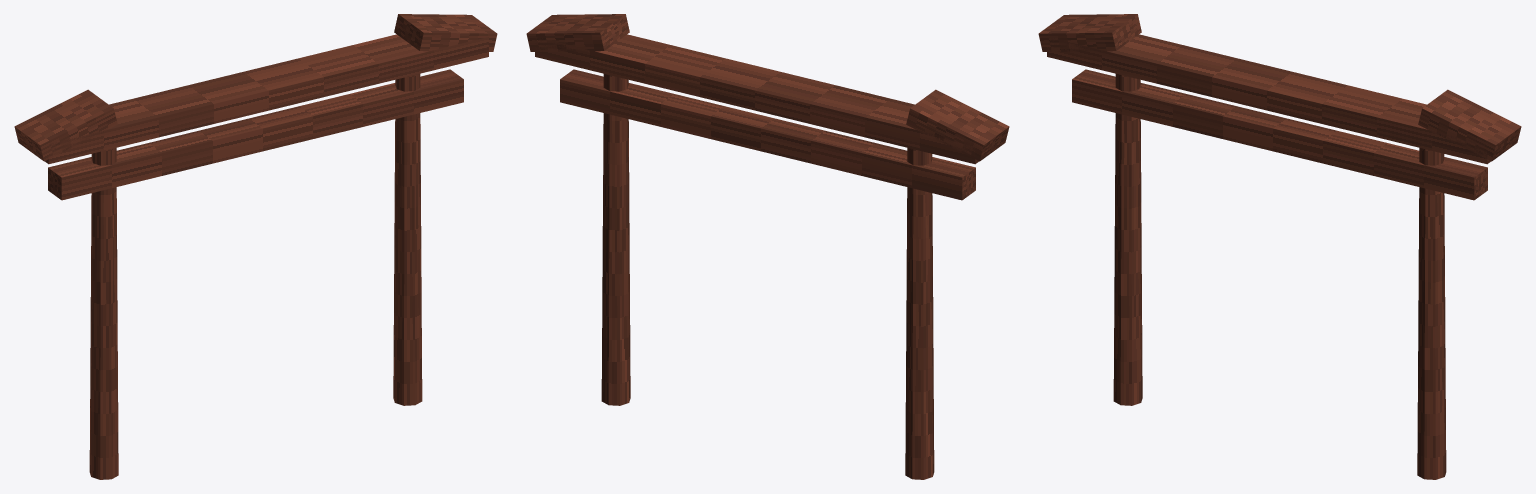
The model's file is gate_47.glb.
The picture shows the model from 3 angles, left to right: view 1: azimuth 30°, elevation 25°; view 2: azimuth 150°, elevation 25°; view 3: azimuth 330°, elevation 25°; orthographic projection.
Parts seen in each view (by area): view 1: Roof, Lintel, Pillar.001, Pillar, RaisedEave, RaisedEave.001; view 2: Roof, Lintel, Pillar.001, Pillar, RaisedEave, RaisedEave.001; view 3: Roof, Lintel, Pillar, Pillar.001, RaisedEave.001, RaisedEave.
Part boxes in pixels (left/top/right/bottom): Roof: left=45, top=34, right=488, bottom=164; Lintel: left=48, top=69, right=463, bottom=200; Pillar.001: left=393, top=74, right=422, bottom=405; Pillar: left=89, top=148, right=118, bottom=479; RaisedEave: left=14, top=89, right=117, bottom=161; RaisedEave.001: left=394, top=14, right=497, bottom=51; Roof: left=535, top=34, right=978, bottom=164; Lintel: left=560, top=69, right=975, bottom=200; Pillar.001: left=601, top=74, right=630, bottom=405; Pillar: left=905, top=148, right=934, bottom=479; RaisedEave: left=906, top=89, right=1009, bottom=161; RaisedEave.001: left=526, top=14, right=629, bottom=51; Roof: left=1047, top=34, right=1490, bottom=164; Lintel: left=1072, top=69, right=1487, bottom=200; Pillar: left=1113, top=74, right=1142, bottom=405; Pillar.001: left=1417, top=148, right=1446, bottom=479; RaisedEave.001: left=1418, top=89, right=1521, bottom=161; RaisedEave: left=1038, top=14, right=1141, bottom=51.
Bounding box in the file's own units: 6.69 × 5.25 × 0.65.
1 material, 1 textured.
